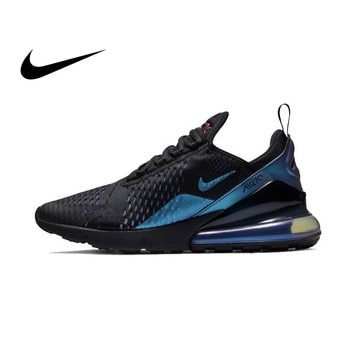nike: (198, 170, 237, 192)
